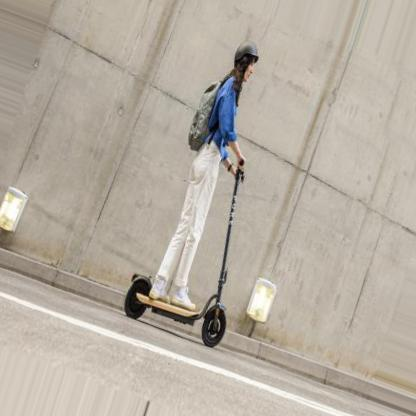scooter: (124, 158, 245, 348)
with helmet: (232, 39, 261, 85)
